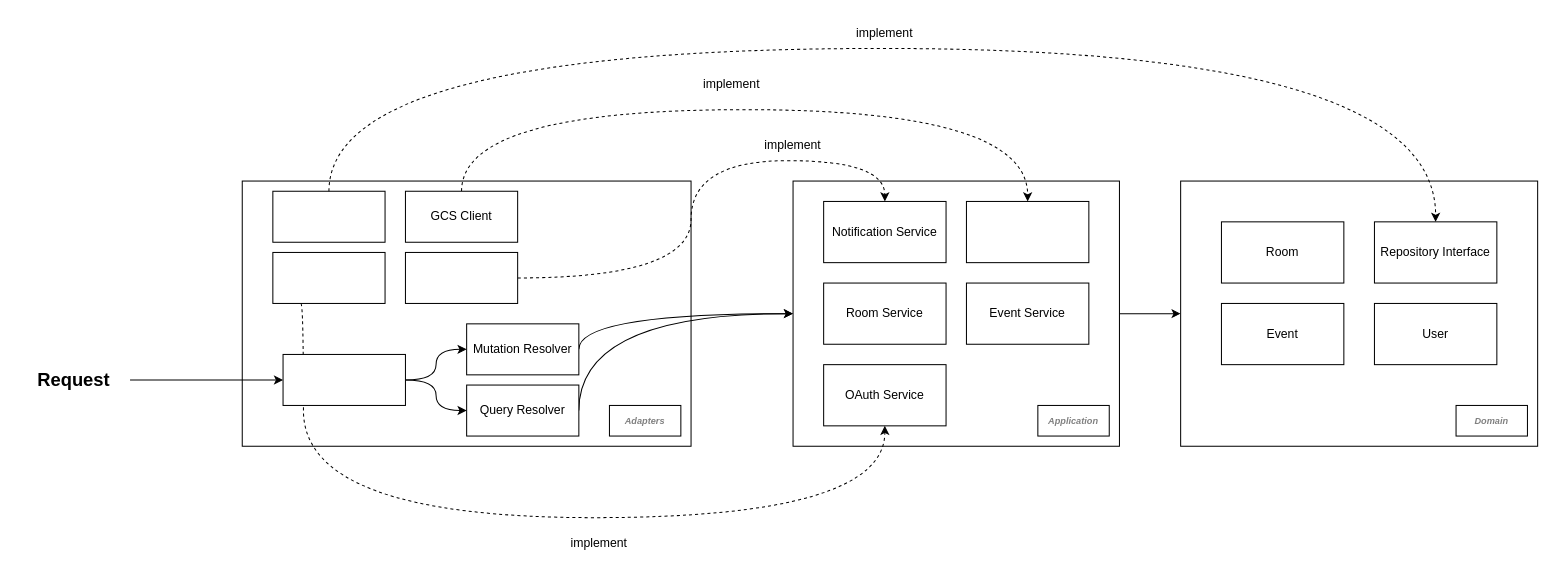
This 1556x575 diagram has some shape labels left out. Each missing label, with the centre of its shape:
"Email Notification" goes at pixel 461 277.
"File Service" goes at pixel 1027 231.
"Google OAuth" goes at pixel 328 277.
"Middleware" goes at pixel 343 379.
"MongoDB Repo" goes at pixel 328 216.
